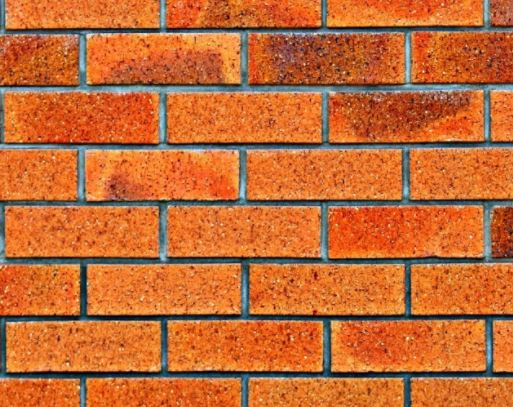brick: (166, 317, 327, 375), (163, 90, 325, 147), (330, 317, 488, 374), (246, 32, 407, 87), (4, 318, 165, 373), (3, 90, 161, 146), (2, 203, 162, 258), (246, 148, 404, 203), (85, 32, 241, 87), (85, 147, 241, 202), (250, 261, 406, 316), (329, 204, 486, 258), (168, 204, 323, 258), (88, 262, 243, 316), (329, 89, 486, 142), (409, 29, 513, 88), (410, 148, 513, 202), (413, 262, 512, 318), (246, 376, 406, 407), (84, 376, 242, 407), (1, 144, 81, 202), (326, 1, 487, 29), (1, 261, 80, 317), (166, 1, 323, 29), (1, 32, 82, 86), (4, 1, 162, 28), (409, 376, 513, 406), (1, 373, 82, 407)
